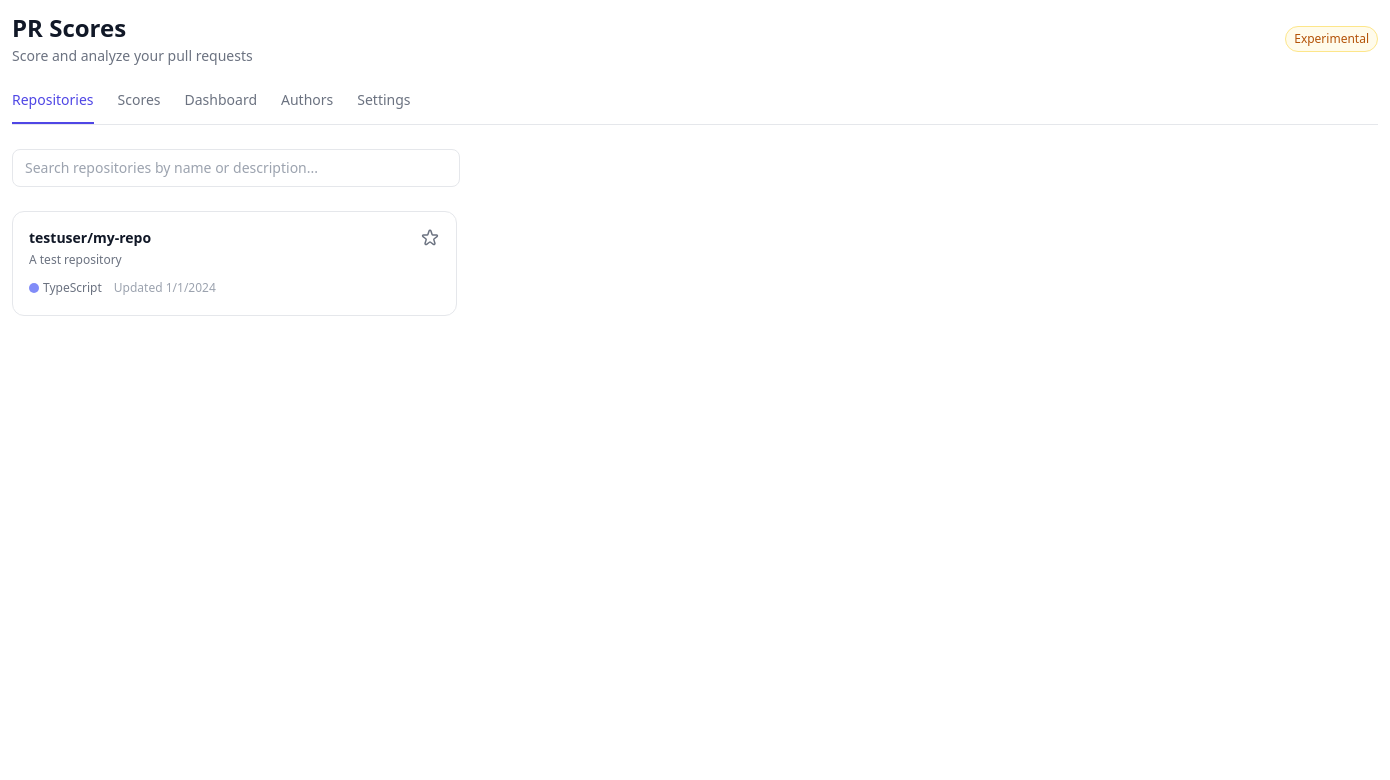
Test: PrScores › with feature flags enabled — dashboard view › shows Merge Rate stat
Click the heading "testuser/my-repo" at (90, 238), box x1=29 y1=228 x2=151 y2=248
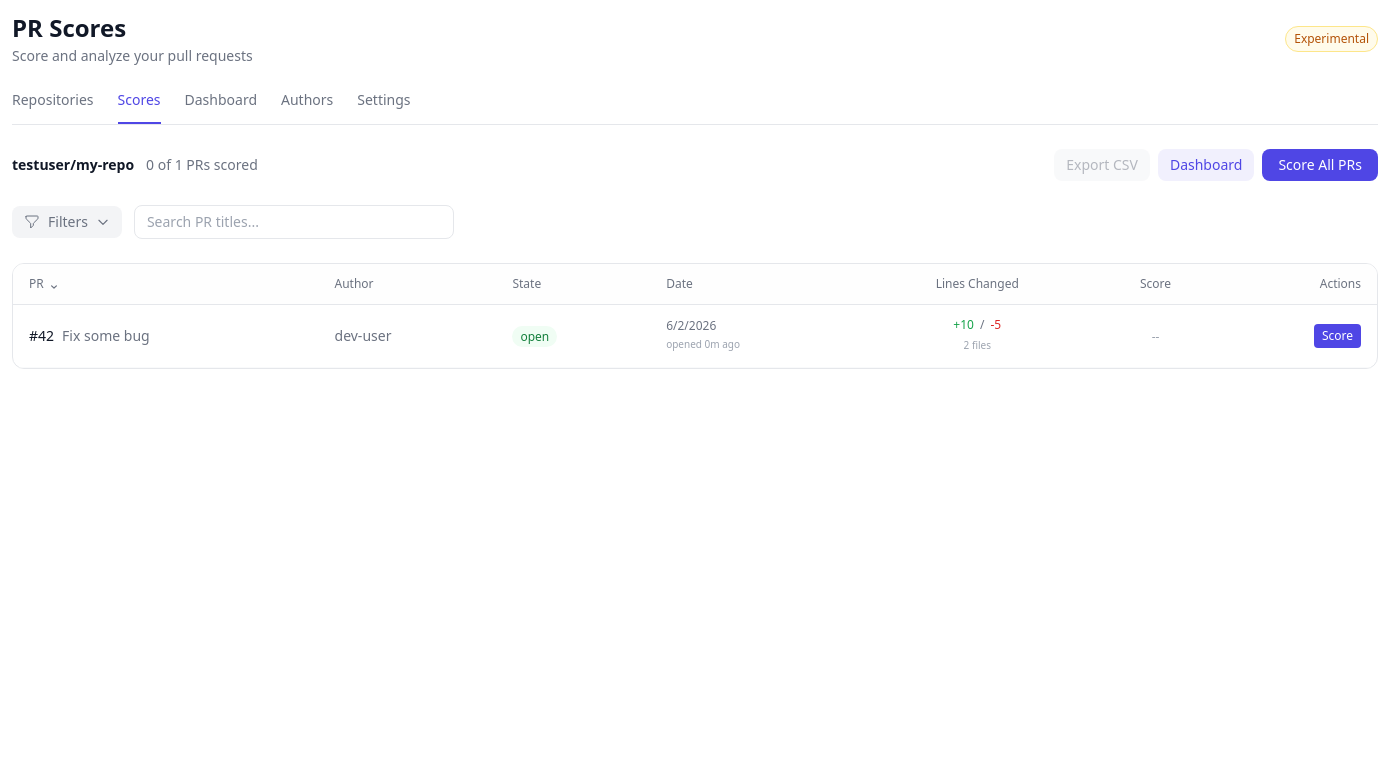
Expected: the text "0 of 1 PRs scored" is shown, x1=146 y1=155 x2=258 y2=175
Click the 1st button "Dashboard" at (221, 107), box x1=184 y1=90 x2=257 y2=124
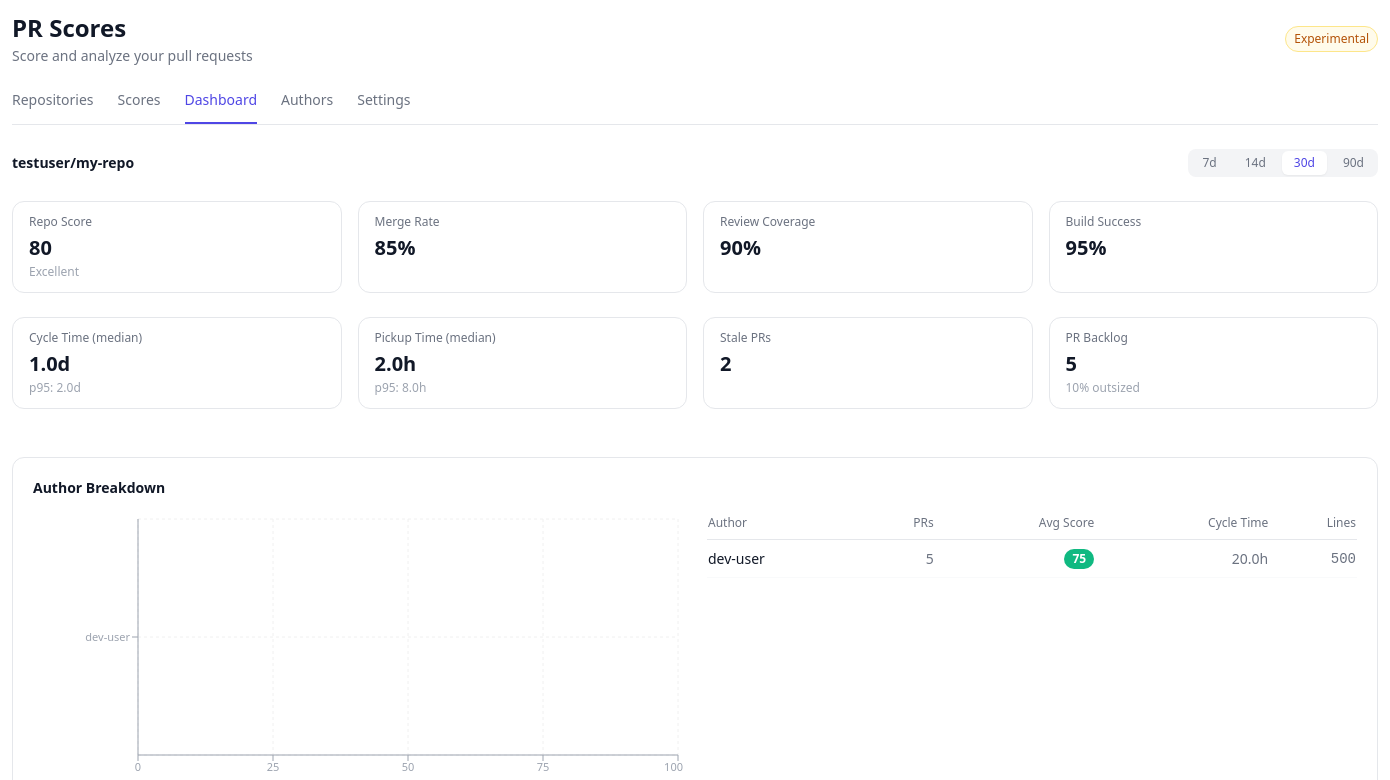
Expected: the text "Repo Score" is shown, x1=29 y1=213 x2=92 y2=230
Expected: the text "Merge Rate" is shown, x1=374 y1=213 x2=440 y2=230
